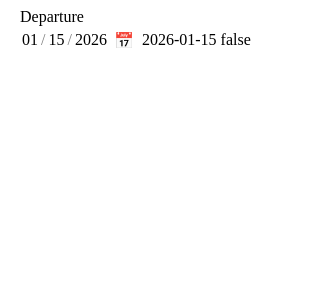
Test case: DatePicker › closes on Escape
Click the button named "Open calendar".
click(124, 40)  # box [110,26,138,54]
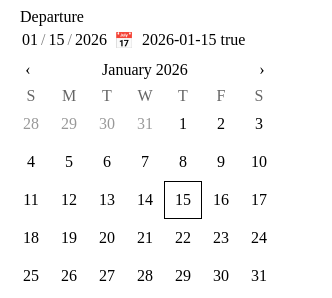
expect the text with test id "open" reads "true": met, box [221,31,246,48]
Press Escape in the button "15", box [164,181,202,219]
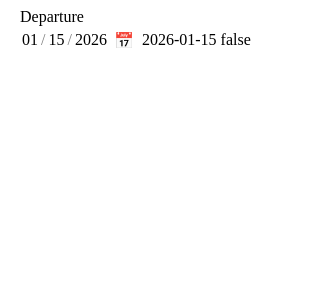
expect the text with test id "open" reads "false": met, box [221,31,251,48]
